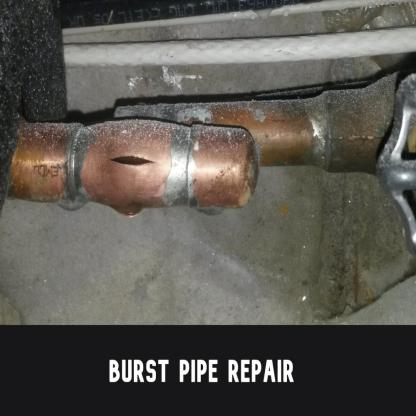burst: (102, 151, 166, 185)
